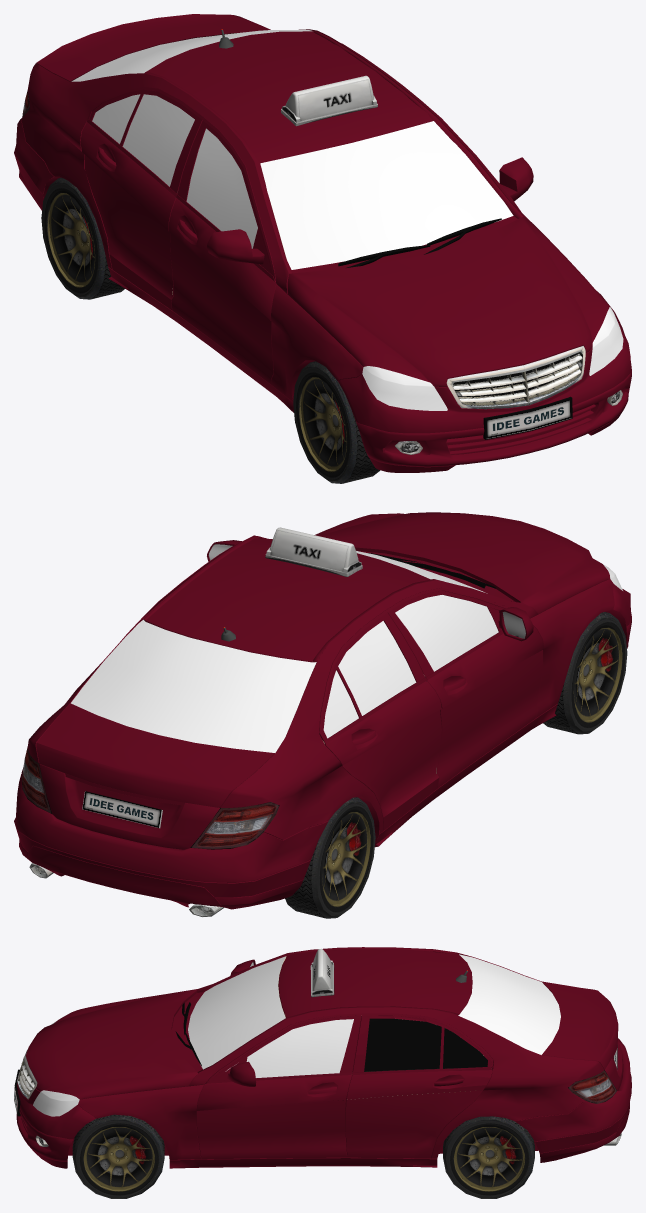
File: Taxi_06_mercedez.fbx
3 views of the same model, one above another, from view 1: azimuth 30°, elevation 25°; view 2: azimuth 150°, elevation 25°; view 3: azimuth 270°, elevation 25° (orthographic). The views are drawn at different scales.
Parts seen in each view (by area): view 1: polySurface26, polySurface9, Object003, FL_Wheel_LOD016, FL_Wheel_LOD017, top light004; view 2: polySurface26, polySurface9, Object003, FL_Wheel_LOD017, FL_Wheel_LOD016, top light004, R_B_Light, L_B_Light; view 3: polySurface26, polySurface9, polySurface25, FL_Wheel_LOD018, FL_Wheel_LOD019, L_B_Light, top light004.
Part boxes in pixels (x1,y1,x2,y2): polySurface26: [14, 14, 631, 472]; polySurface9: [71, 30, 623, 410]; Object003: [80, 87, 203, 309]; FL_Wheel_LOD016: [293, 361, 379, 483]; FL_Wheel_LOD017: [41, 177, 124, 299]; top light004: [281, 75, 377, 126]; polySurface26: [14, 512, 631, 917]; polySurface9: [71, 551, 622, 752]; Object003: [319, 610, 441, 830]; FL_Wheel_LOD017: [285, 797, 375, 918]; FL_Wheel_LOD016: [543, 612, 627, 734]; top light004: [265, 527, 362, 576]; R_B_Light: [190, 802, 279, 849]; L_B_Light: [21, 746, 51, 813]; polySurface26: [14, 947, 631, 1168]; polySurface9: [33, 954, 560, 1116]; polySurface25: [345, 1015, 492, 1158]; FL_Wheel_LOD018: [72, 1114, 164, 1198]; FL_Wheel_LOD019: [443, 1116, 534, 1198]; L_B_Light: [568, 1070, 616, 1103]; top light004: [310, 949, 334, 997].
Bounding box in the file's own units: 79.35 × 61.64 × 180.
